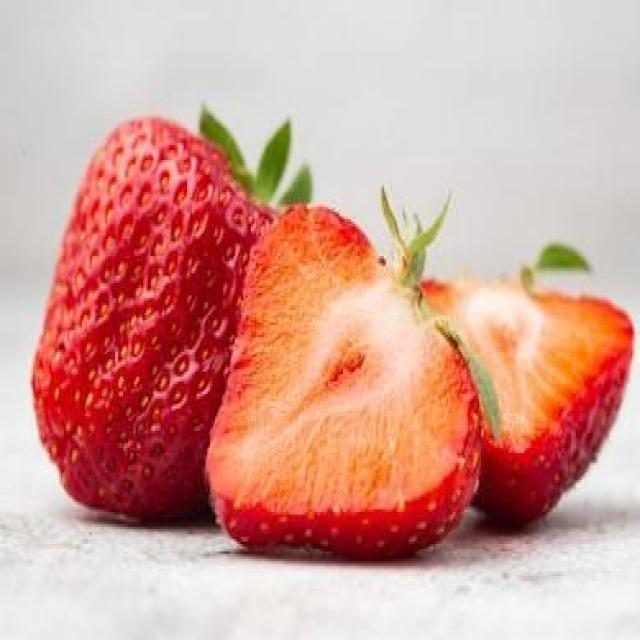strawberry: (246, 202, 471, 552), (34, 112, 210, 526), (476, 273, 632, 519)
